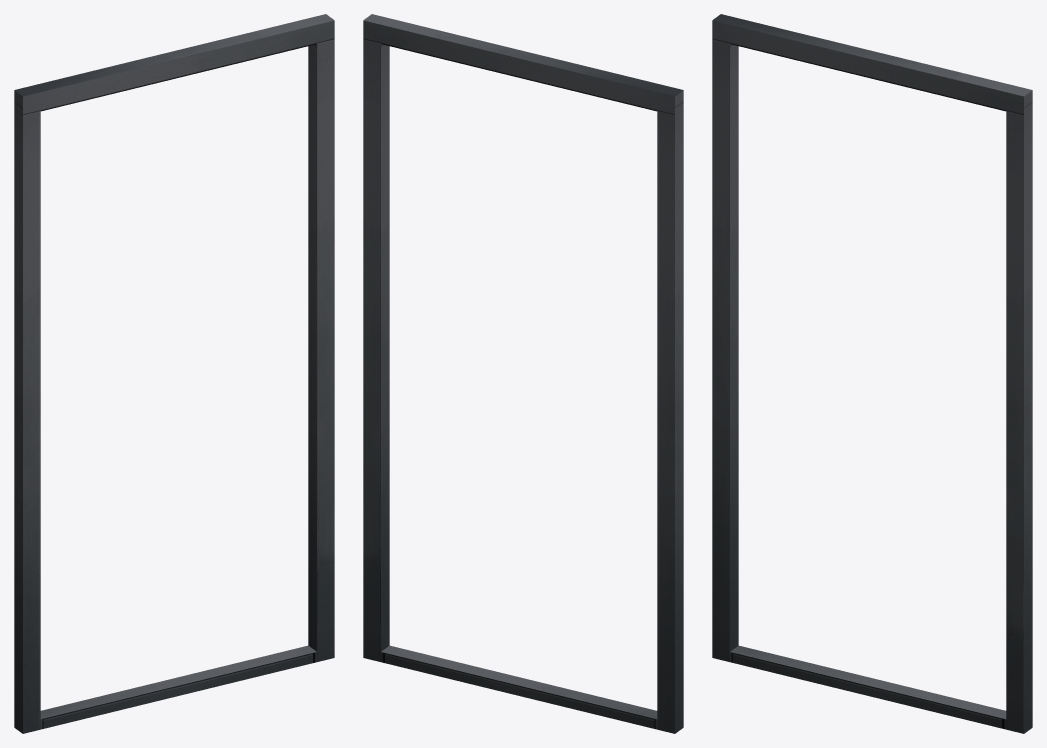
The model's file is Door02Frame.FBX.
The picture shows the model from 3 angles, left to right: view 1: azimuth 30°, elevation 25°; view 2: azimuth 150°, elevation 25°; view 3: azimuth 330°, elevation 25°; orthographic projection.
Visible parts, largest first — view 1: Door02Frame; view 2: Door02Frame; view 3: Door02Frame.
Boxes of the visible parts, <box> form: Door02Frame: <box>14,14,334,733</box>; Door02Frame: <box>363,14,683,733</box>; Door02Frame: <box>712,14,1032,733</box>.
Size of the model in its own units: 44.42 by 86.76 by 2.17.
